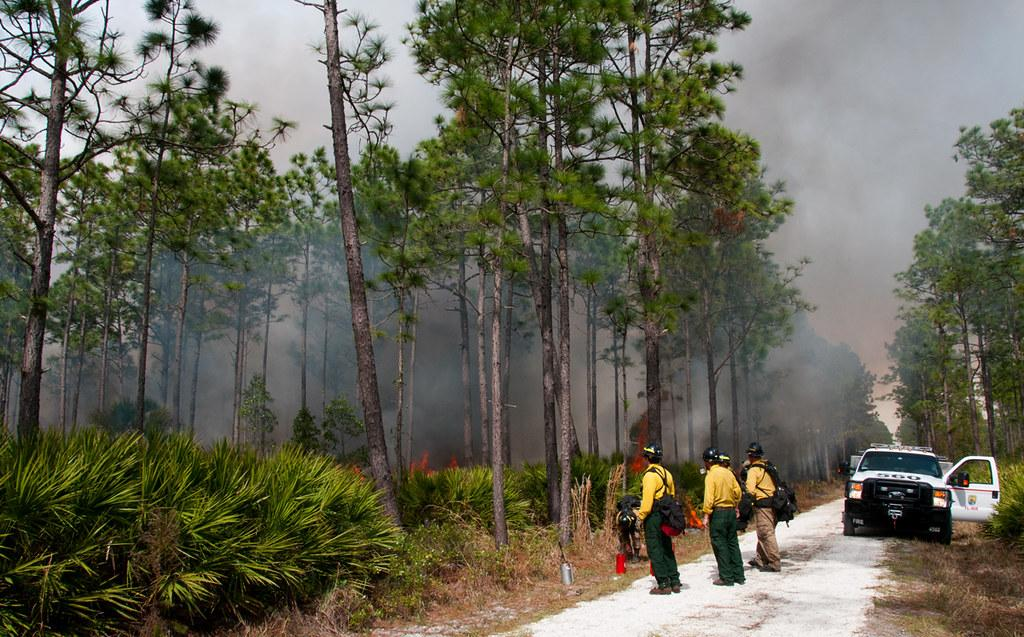smoke: (218, 317, 636, 424)
